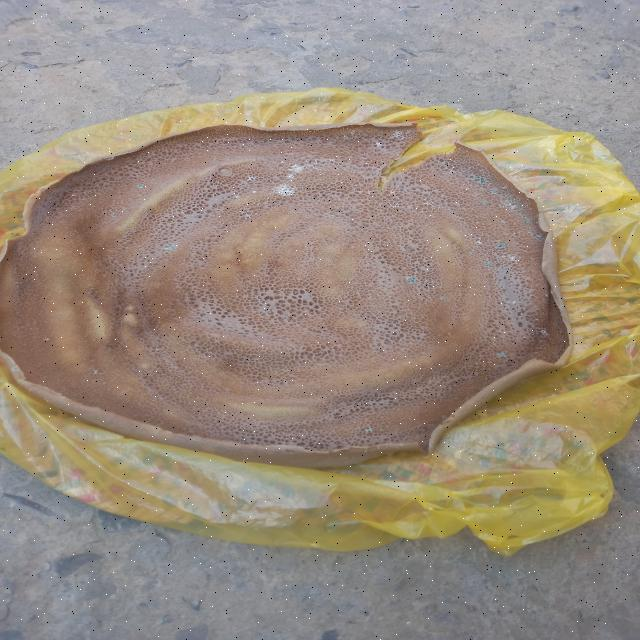injera_mold: (306, 157, 336, 176), (497, 195, 532, 211), (382, 196, 412, 211), (232, 205, 258, 222), (268, 183, 299, 197), (529, 323, 553, 341), (282, 163, 305, 180), (62, 186, 94, 198), (501, 254, 519, 275), (420, 198, 441, 212), (390, 128, 414, 140), (162, 242, 180, 252), (488, 186, 511, 193), (406, 276, 418, 285), (495, 352, 509, 359), (424, 280, 436, 286), (245, 176, 256, 182), (364, 427, 374, 433), (478, 178, 488, 184), (136, 183, 145, 189), (535, 233, 544, 239), (440, 297, 449, 302), (497, 243, 506, 248), (375, 141, 382, 147), (475, 240, 483, 245), (44, 338, 52, 342), (523, 219, 531, 223), (443, 162, 450, 166), (93, 370, 99, 374), (485, 263, 491, 267), (234, 195, 240, 199), (252, 190, 257, 194), (469, 252, 473, 256), (469, 176, 474, 178), (480, 201, 485, 203)
